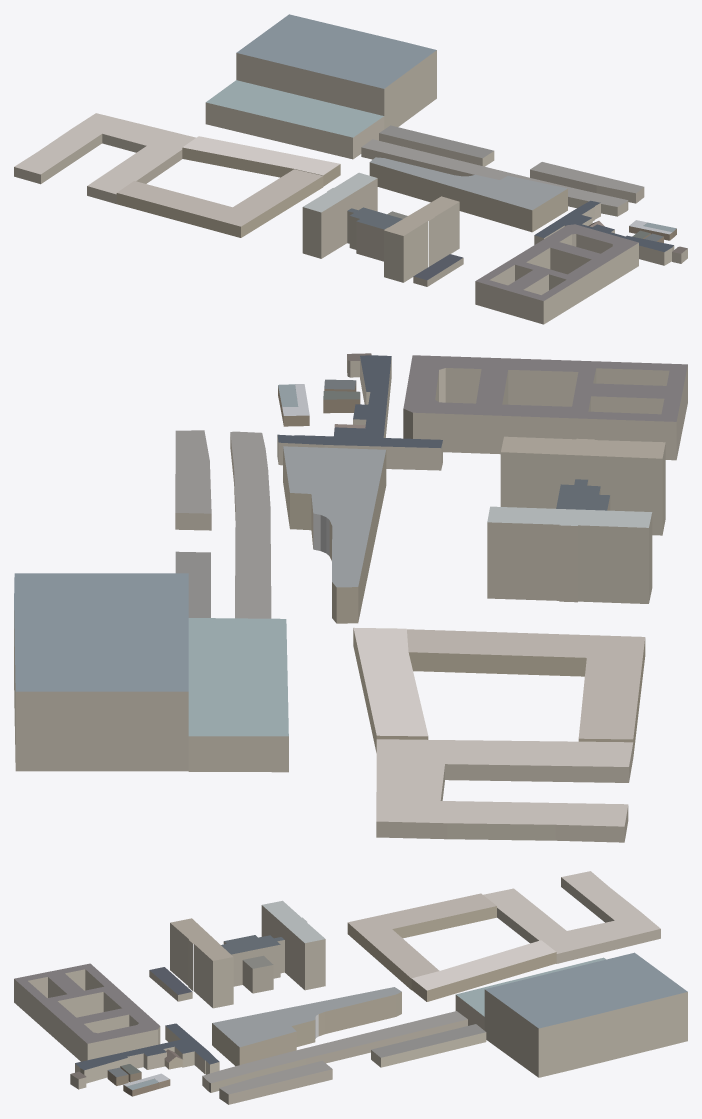
3 renders of one model, top to bottom at view 1: azimuth 30°, elevation 25°; view 2: azimuth 150°, elevation 25°; view 3: azimuth 270°, elevation 25°, orthographic. The views are drawn at different scales.
Parts seen in each view (by area): view 1: tuile; view 2: tuile; view 3: tuile.
Boxes of the visible parts, x1,y1,x2,y2 form: tuile: (14, 14, 687, 324); tuile: (14, 353, 687, 842); tuile: (14, 871, 687, 1104).
Bounding box in the file's own units: 254 × 26.34 × 324.
